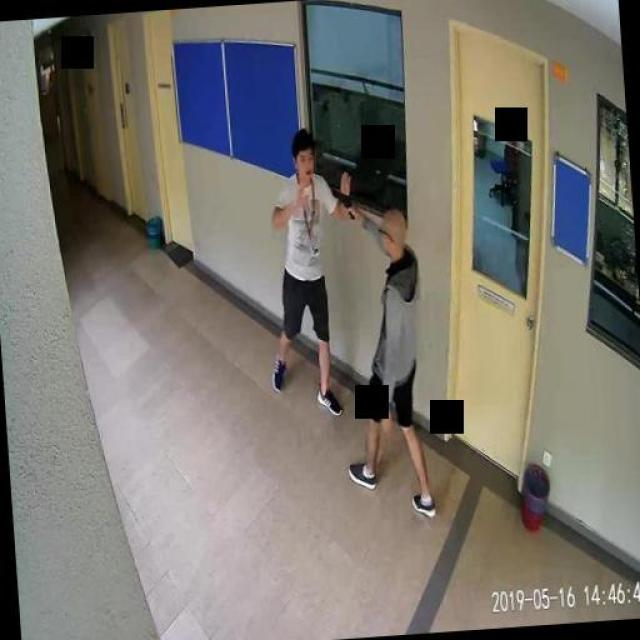gun: (330, 188, 354, 220)
